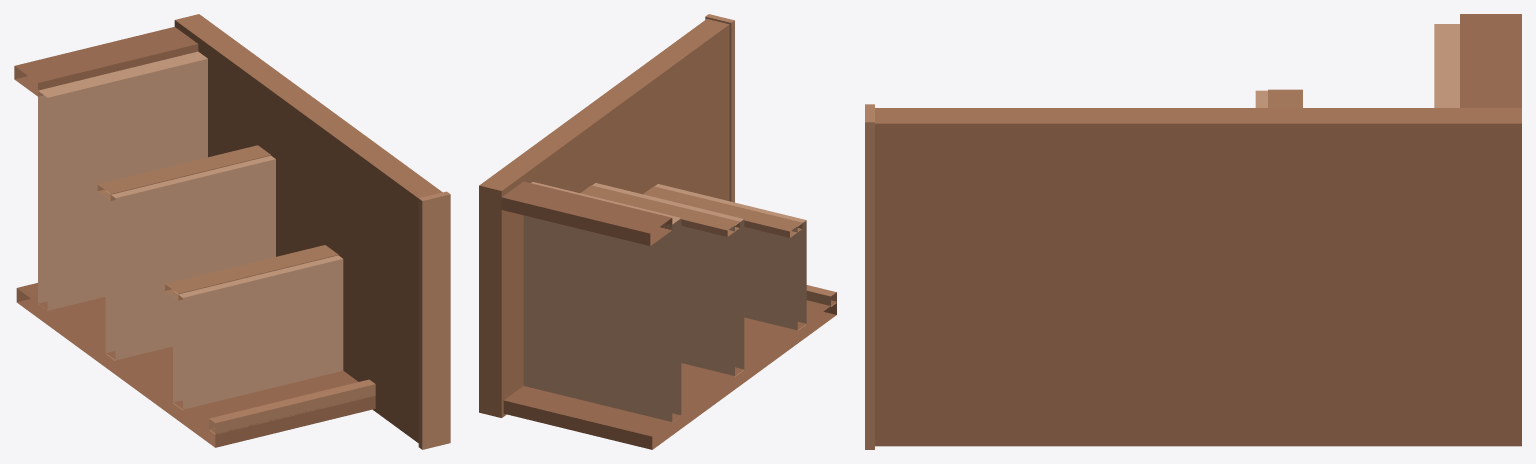
The model's file is section-3.obj.
3 views of the same model, side by side, from view 1: azimuth 30°, elevation 25°; view 2: azimuth 150°, elevation 25°; view 3: azimuth 270°, elevation 25° (orthographic). The views are drawn at different scales.
Bounding box in the file's own units: 0.504 × 0.642 × 1.17.
1 material, 1 textured.
